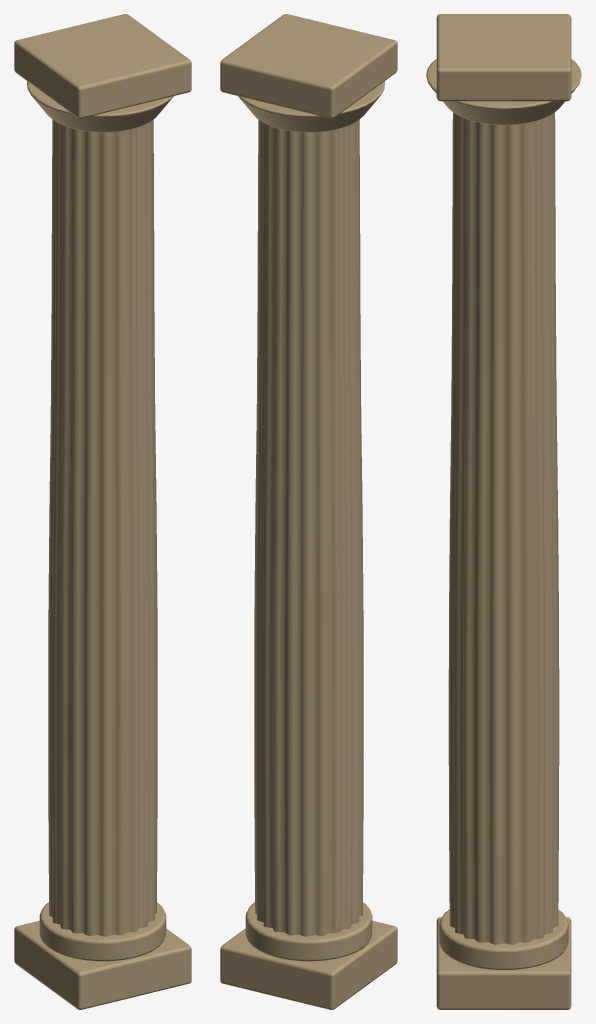
The model's file is column.glb.
The picture shows the model from 3 angles, left to right: view 1: azimuth 30°, elevation 25°; view 2: azimuth 150°, elevation 25°; view 3: azimuth 270°, elevation 25°; orthographic projection.
Visible parts, largest first — view 1: shaft, abacus, plinth, torus, echinus; view 2: shaft, abacus, plinth, torus, echinus; view 3: shaft, abacus, plinth, torus, echinus.
Boxes of the visible parts, <box> form: shaft: <box>48,119,157,936</box>; abacus: <box>14,14,191,118</box>; plinth: <box>14,920,191,1009</box>; torus: <box>39,902,166,961</box>; echinus: <box>27,81,173,132</box>; shaft: <box>254,119,363,936</box>; abacus: <box>220,14,397,118</box>; plinth: <box>220,920,397,1009</box>; torus: <box>245,902,372,961</box>; echinus: <box>238,81,384,132</box>; shaft: <box>448,112,559,944</box>; abacus: <box>436,14,571,101</box>; plinth: <box>436,917,571,1009</box>; torus: <box>439,909,568,969</box>; echinus: <box>426,59,581,125</box>.
Size of the model in its own units: 1.27 by 8.5 by 1.27.
